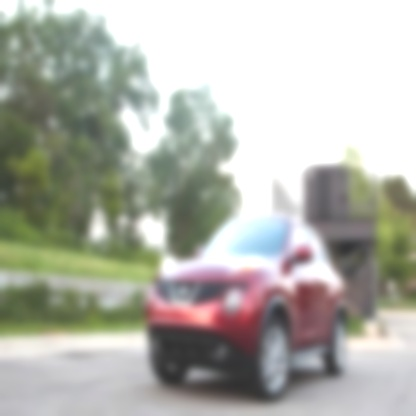Vehicle: (147, 216, 347, 401)
